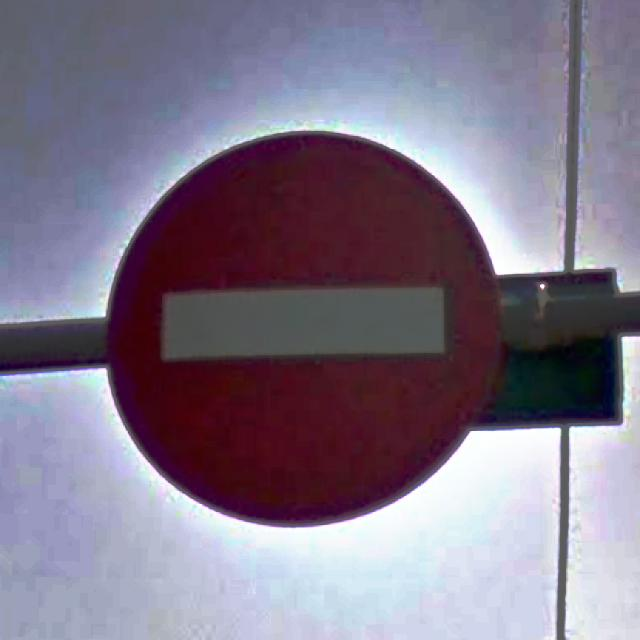noentry: (100, 125, 508, 530)
